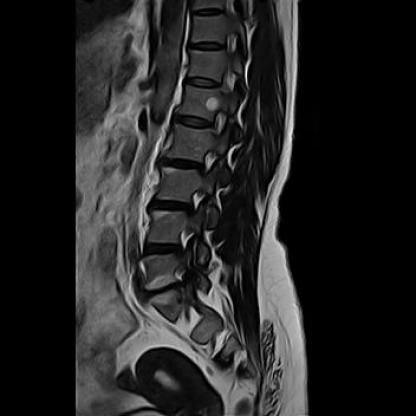Disc Bulgerotation: (145, 281, 184, 301), (144, 239, 181, 259)
